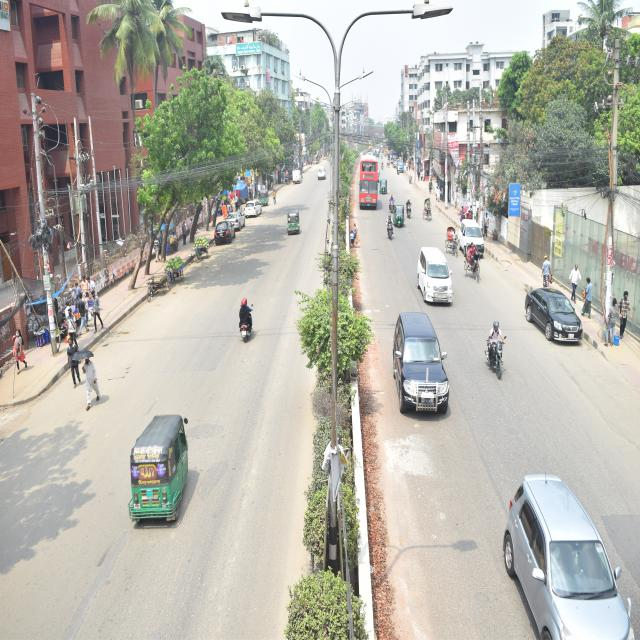bus: (356, 148, 381, 212)
car: (502, 470, 635, 640), (392, 308, 452, 422), (523, 280, 587, 344), (212, 218, 237, 250), (224, 207, 248, 234), (244, 197, 263, 218)
microbus: (412, 242, 458, 307), (458, 213, 486, 260)
motorbike: (483, 324, 508, 381), (235, 293, 258, 348), (384, 215, 398, 242), (404, 195, 416, 225)
